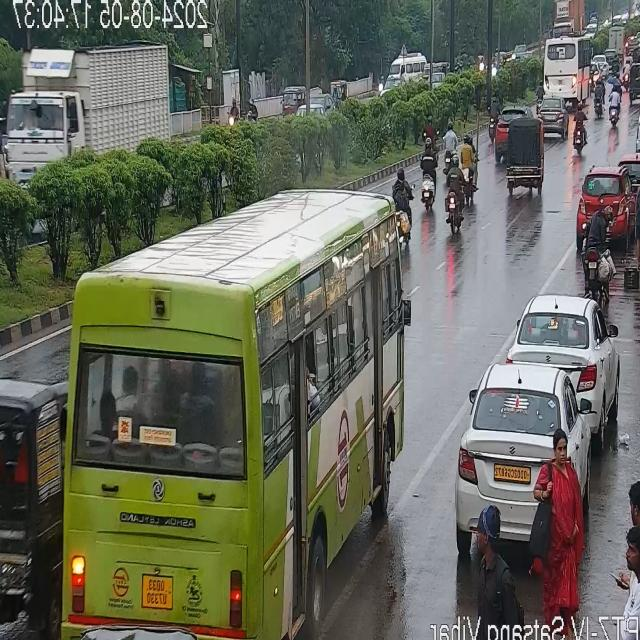2-wheelers: (579, 196, 615, 294), (442, 163, 472, 234), (419, 138, 439, 210), (394, 170, 412, 249), (571, 97, 588, 159), (438, 122, 459, 172), (463, 133, 478, 198), (604, 74, 622, 124), (227, 101, 259, 129), (419, 115, 441, 152), (594, 72, 608, 120), (489, 98, 498, 144), (534, 76, 544, 110), (611, 52, 621, 74), (332, 84, 338, 106)
auto: (1, 381, 56, 615), (506, 122, 546, 196), (280, 82, 306, 118), (331, 81, 347, 101)
bus: (47, 223, 400, 640), (536, 32, 592, 94)
car: (456, 366, 600, 545), (514, 296, 612, 406), (580, 168, 628, 224), (534, 100, 566, 138), (496, 108, 510, 160), (600, 54, 608, 76)
pedestrian: (538, 428, 580, 606), (611, 534, 640, 625), (638, 116, 640, 152)
truck: (13, 36, 176, 150), (546, 1, 588, 36)
